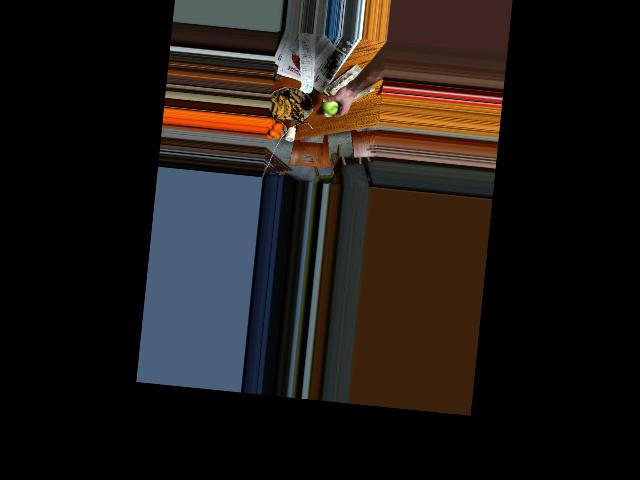apple: (319, 93, 345, 118)
